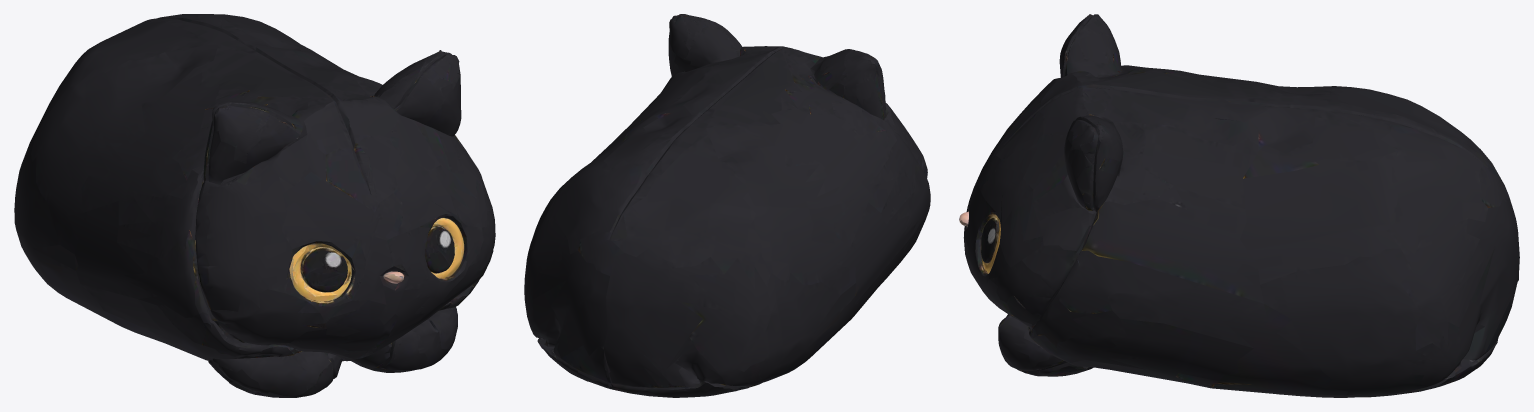
The model's file is cat-v1.glb.
3 renders of one model, left to right at view 1: azimuth 30°, elevation 25°; view 2: azimuth 150°, elevation 25°; view 3: azimuth 270°, elevation 25°, orthographic. The views are drawn at different scales.
Parts seen in each view (by area): view 1: Mesh_0; view 2: Mesh_0; view 3: Mesh_0.
Boxes of the visible parts, left/top/right/bottom form: Mesh_0: left=14, top=14, right=495, bottom=397; Mesh_0: left=524, top=14, right=930, bottom=397; Mesh_0: left=959, top=14, right=1519, bottom=397.
Size of the model in its own units: 1.3 by 1.04 by 1.92.
1 material, 1 textured.
